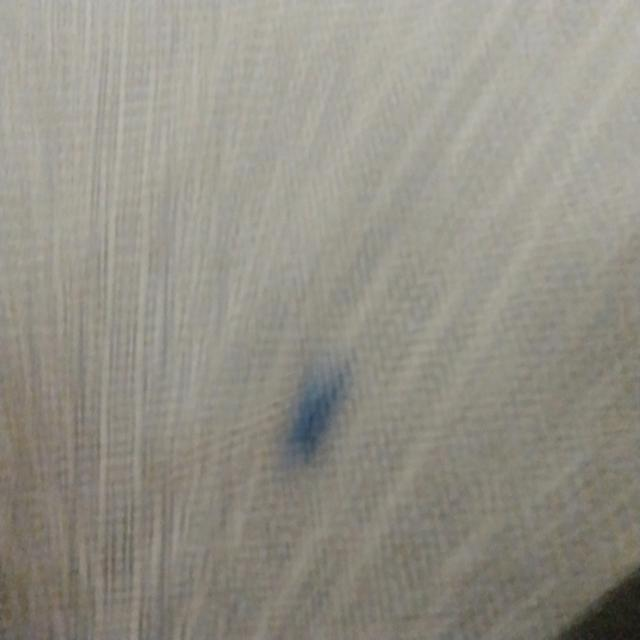blue_led: (281, 346, 355, 468)
